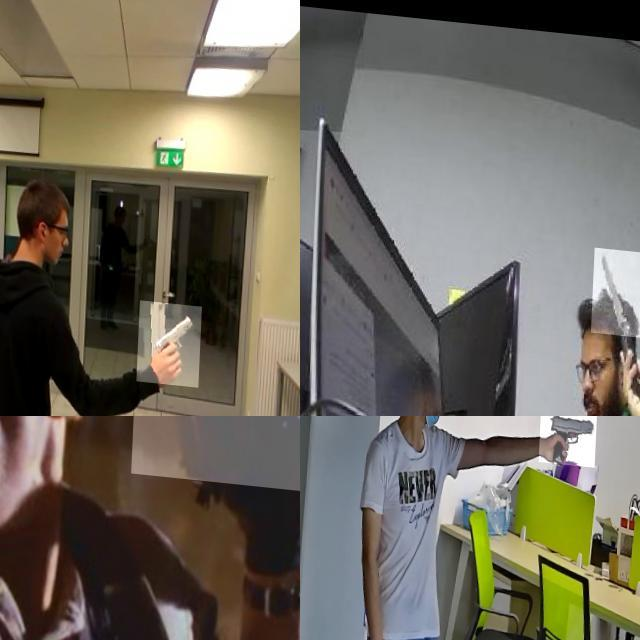-: (593, 238, 640, 327)
gun-knife-thesis - v11 Yolov5 augmented: (134, 416, 300, 557), (140, 291, 205, 377), (541, 416, 599, 455)
